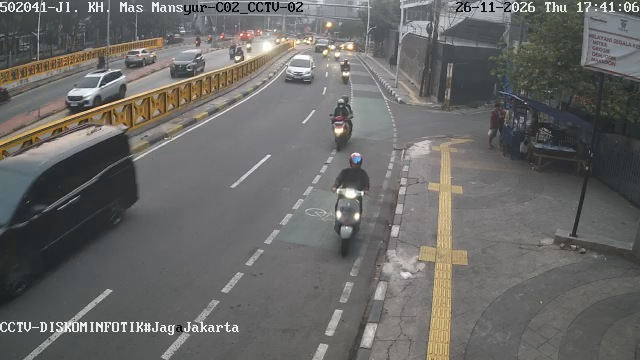Gerobak: (496, 89, 586, 172)
